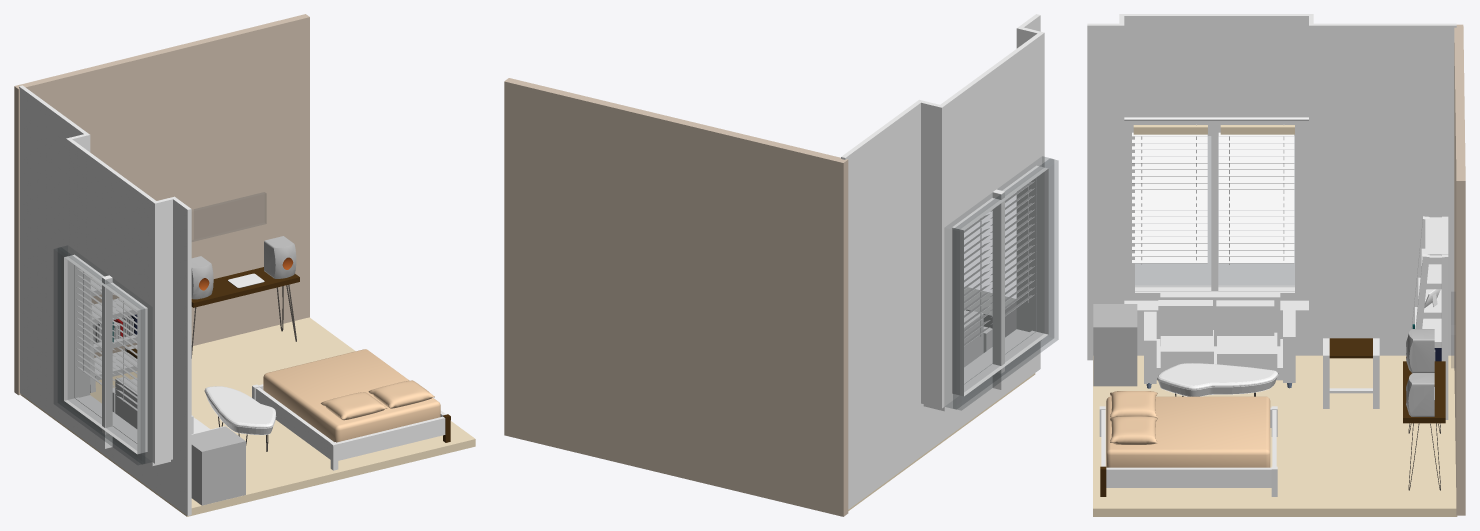
Rendered from tonyapt2.obj.
The picture shows the model from 3 angles, left to right: view 1: azimuth 30°, elevation 25°; view 2: azimuth 150°, elevation 25°; view 3: azimuth 270°, elevation 25°; orthographic projection. The views are drawn at different scales.
Parts seen in each view (by area): view 1: right_wall, base, floor, windowpane, mattress, Cube_21, Box_end_table, windowframe, Gallerywrap, Extrude_NURBS.1, head_box, Window_divider (+8 smaller); view 2: right_wall, base, windowpane, Cube_21, windowframe, Window_divider, Box_end_table, Cube.3_2; view 3: base, floor, mattress, right_wall, windowpane, Box_end_table, right_box, Extrude_NURBS.1, Cube_2, Cube_5, Cube.1_3, Cube.4_1 (+58 smaller).
Boxes of the visible parts, box(x1,y1,x2,y2) form: right_wall: box(14, 14, 309, 395); base: box(19, 85, 191, 515); floor: box(21, 317, 475, 516); windowpane: box(54, 247, 144, 464); mattress: box(263, 349, 440, 442); Cube_21: box(64, 254, 147, 454); Box_end_table: box(191, 426, 245, 505); windowframe: box(58, 245, 151, 464); Gallerywrap: box(192, 192, 266, 241); Extrude_NURBS.1: box(204, 386, 276, 435); head_box: box(337, 416, 445, 460); Window_divider: box(102, 275, 112, 448); right_wall: box(504, 78, 848, 516); base: box(841, 14, 1044, 509); windowpane: box(953, 159, 1058, 410); Cube_21: box(952, 165, 1048, 396); windowframe: box(945, 156, 1053, 409); Window_divider: box(992, 189, 1004, 389); Box_end_table: box(964, 287, 1016, 337); Cube.3_2: box(964, 311, 983, 367); base: box(1087, 14, 1456, 360); floor: box(1093, 355, 1457, 516); mattress: box(1106, 396, 1270, 467); right_wall: box(1454, 24, 1465, 515); windowpane: box(1135, 136, 1294, 286); Box_end_table: box(1093, 304, 1137, 386); right_box: box(1106, 467, 1271, 487); Extrude_NURBS.1: box(1157, 363, 1278, 396); Cube_2: box(1408, 329, 1434, 416); Cube_5: box(1216, 300, 1274, 335); Cube.1_3: box(1158, 300, 1212, 335); Cube.4_1: box(1217, 332, 1277, 369).
Size of the model in its own units: 443 by 404 by 410.
